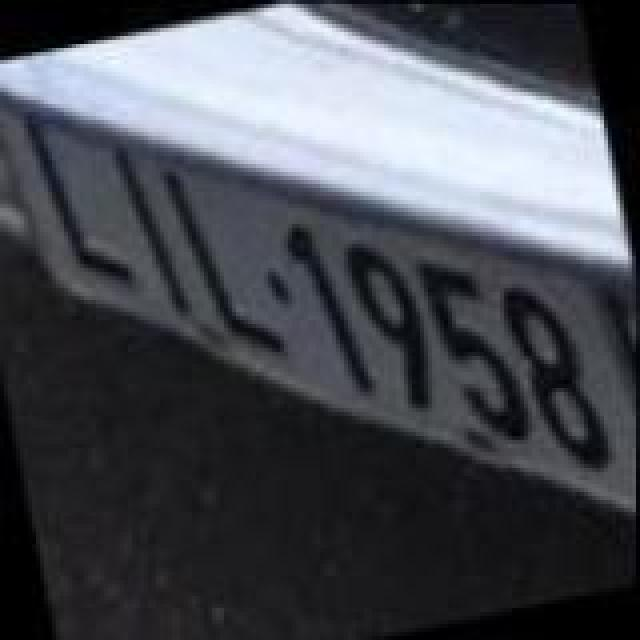1: (276, 212, 376, 408), (104, 130, 192, 322)
5: (410, 238, 538, 458)
8: (492, 266, 616, 486)
9: (336, 228, 444, 420)
L: (152, 146, 288, 374), (18, 94, 142, 306)
